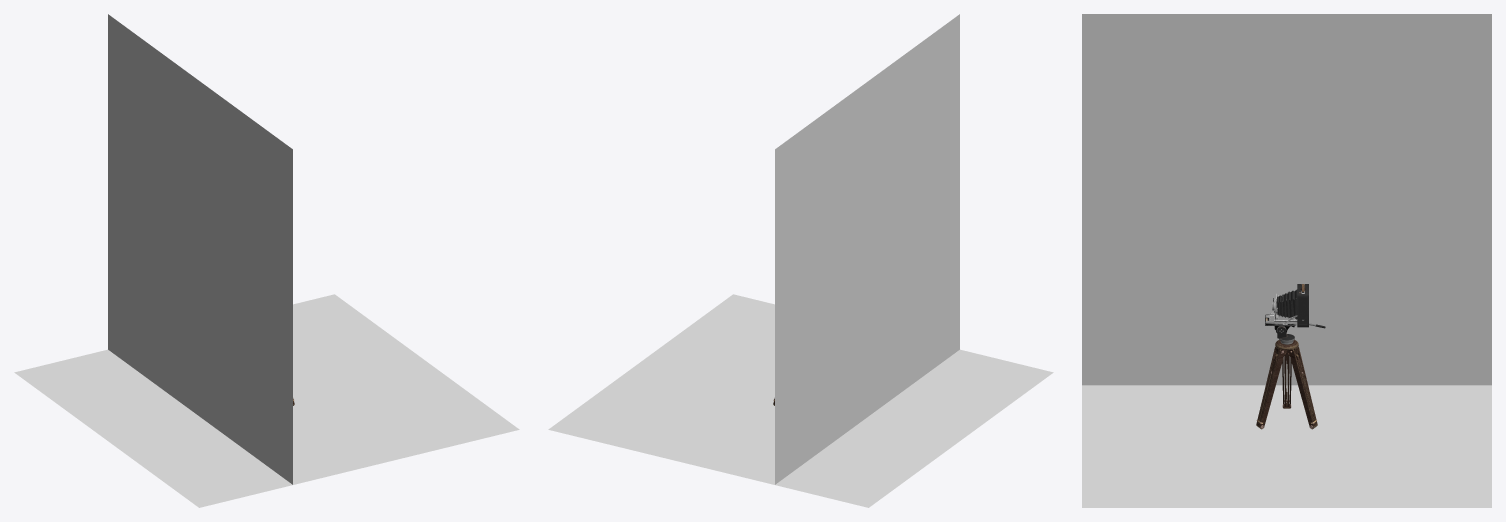
The picture shows the model from 3 angles, left to right: view 1: azimuth 30°, elevation 25°; view 2: azimuth 150°, elevation 25°; view 3: azimuth 270°, elevation 25°; orthographic projection. The views are drawn at different scales.
Parts seen in each view (by area): view 1: Plane.001, Plane; view 2: Plane.001, Plane; view 3: Plane.001, Plane, tripod, camera.
Part boxes in pixels (<box>): Plane.001: <box>108,14,292,484</box>; Plane: <box>14,294,519,507</box>; Plane.001: <box>775,14,959,484</box>; Plane: <box>548,294,1053,507</box>; Plane.001: <box>1082,14,1491,385</box>; Plane: <box>1082,385,1491,507</box>; tripod: <box>1256,323,1325,429</box>; camera: <box>1265,284,1308,327</box>.
Bounding box in the file's own units: 20 × 20 × 20.
Materials: 4 (2 with a texture image).
